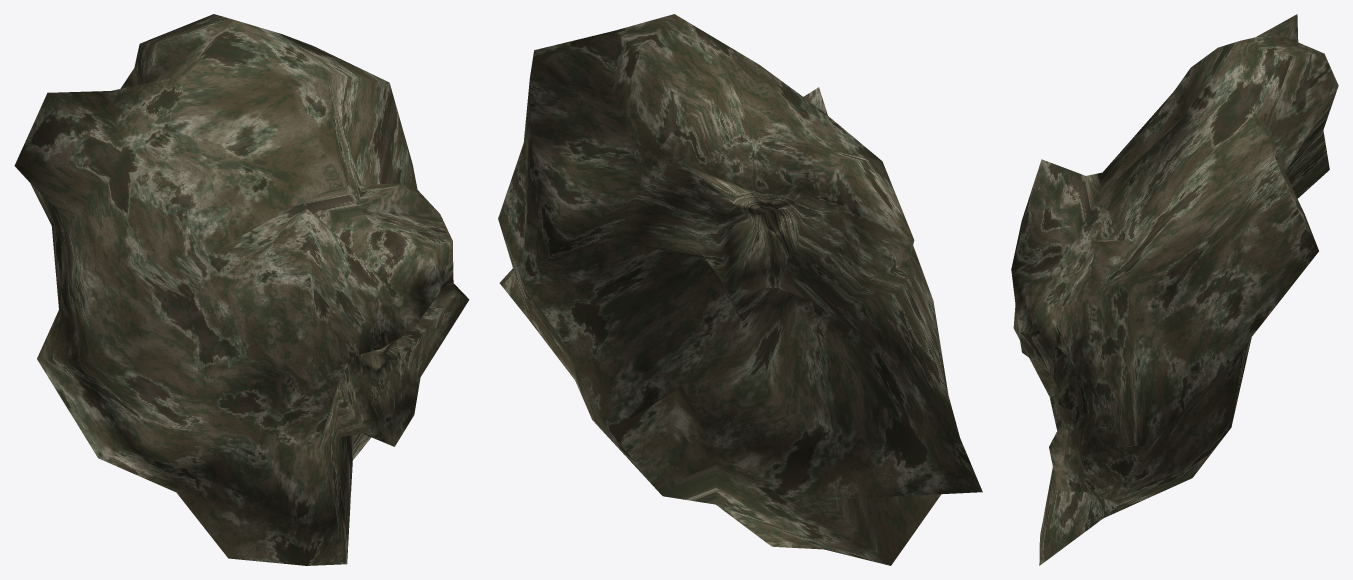
The model's file is asteroid3.obj.
3 renders of one model, left to right at view 1: azimuth 30°, elevation 25°; view 2: azimuth 150°, elevation 25°; view 3: azimuth 270°, elevation 25°, orthographic. The views are drawn at different scales.
Visible parts, largest first — view 1: asteroid_3; view 2: asteroid_3; view 3: asteroid_3.
Boxes of the visible parts, box(x1,y1,x2,y2) form: asteroid_3: box(14, 14, 469, 565); asteroid_3: box(498, 14, 982, 565); asteroid_3: box(1011, 14, 1338, 565).
Size of the model in its own units: 1.93 by 2.26 by 1.3.
Materials: 1 (1 with a texture image).
